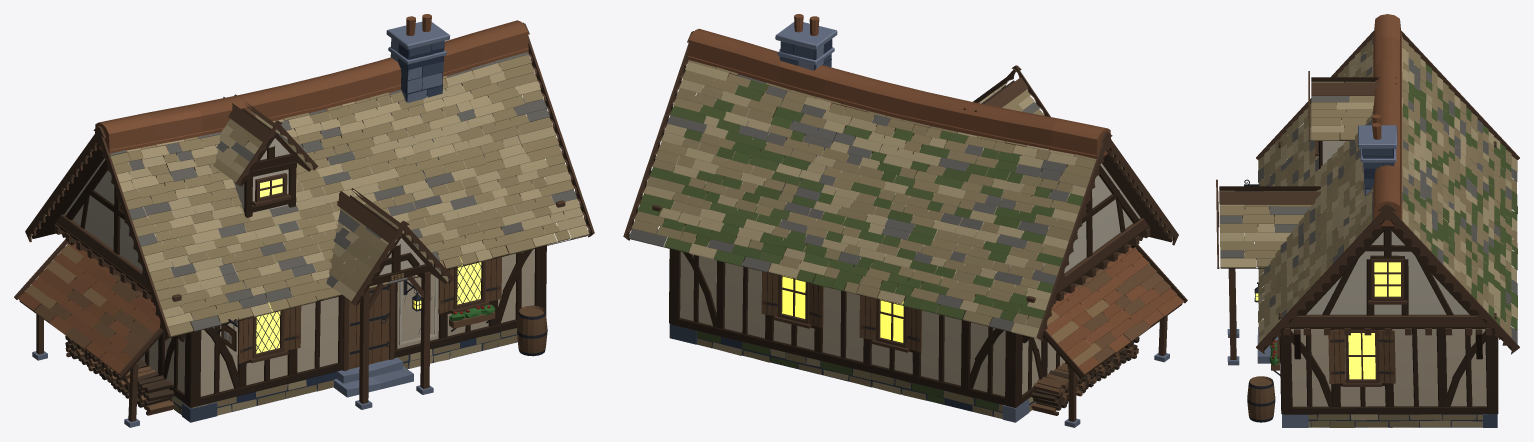
The model's file is house_01_c.glb.
The picture shows the model from 3 angles, left to right: view 1: azimuth 30°, elevation 25°; view 2: azimuth 150°, elevation 25°; view 3: azimuth 270°, elevation 25°; orthographic projection. The views are drawn at different scales.
Visible parts, largest first — view 1: isl_house_01_c; view 2: isl_house_01_c; view 3: isl_house_01_c.
Boxes of the visible parts, x1=… form: isl_house_01_c: x1=14, y1=14, x2=594, y2=427; isl_house_01_c: x1=623, y1=14, x2=1187, y2=427; isl_house_01_c: x1=1216, y1=14, x2=1519, y2=427.
Size of the model in its own units: 10.9 by 6.85 by 6.86.
